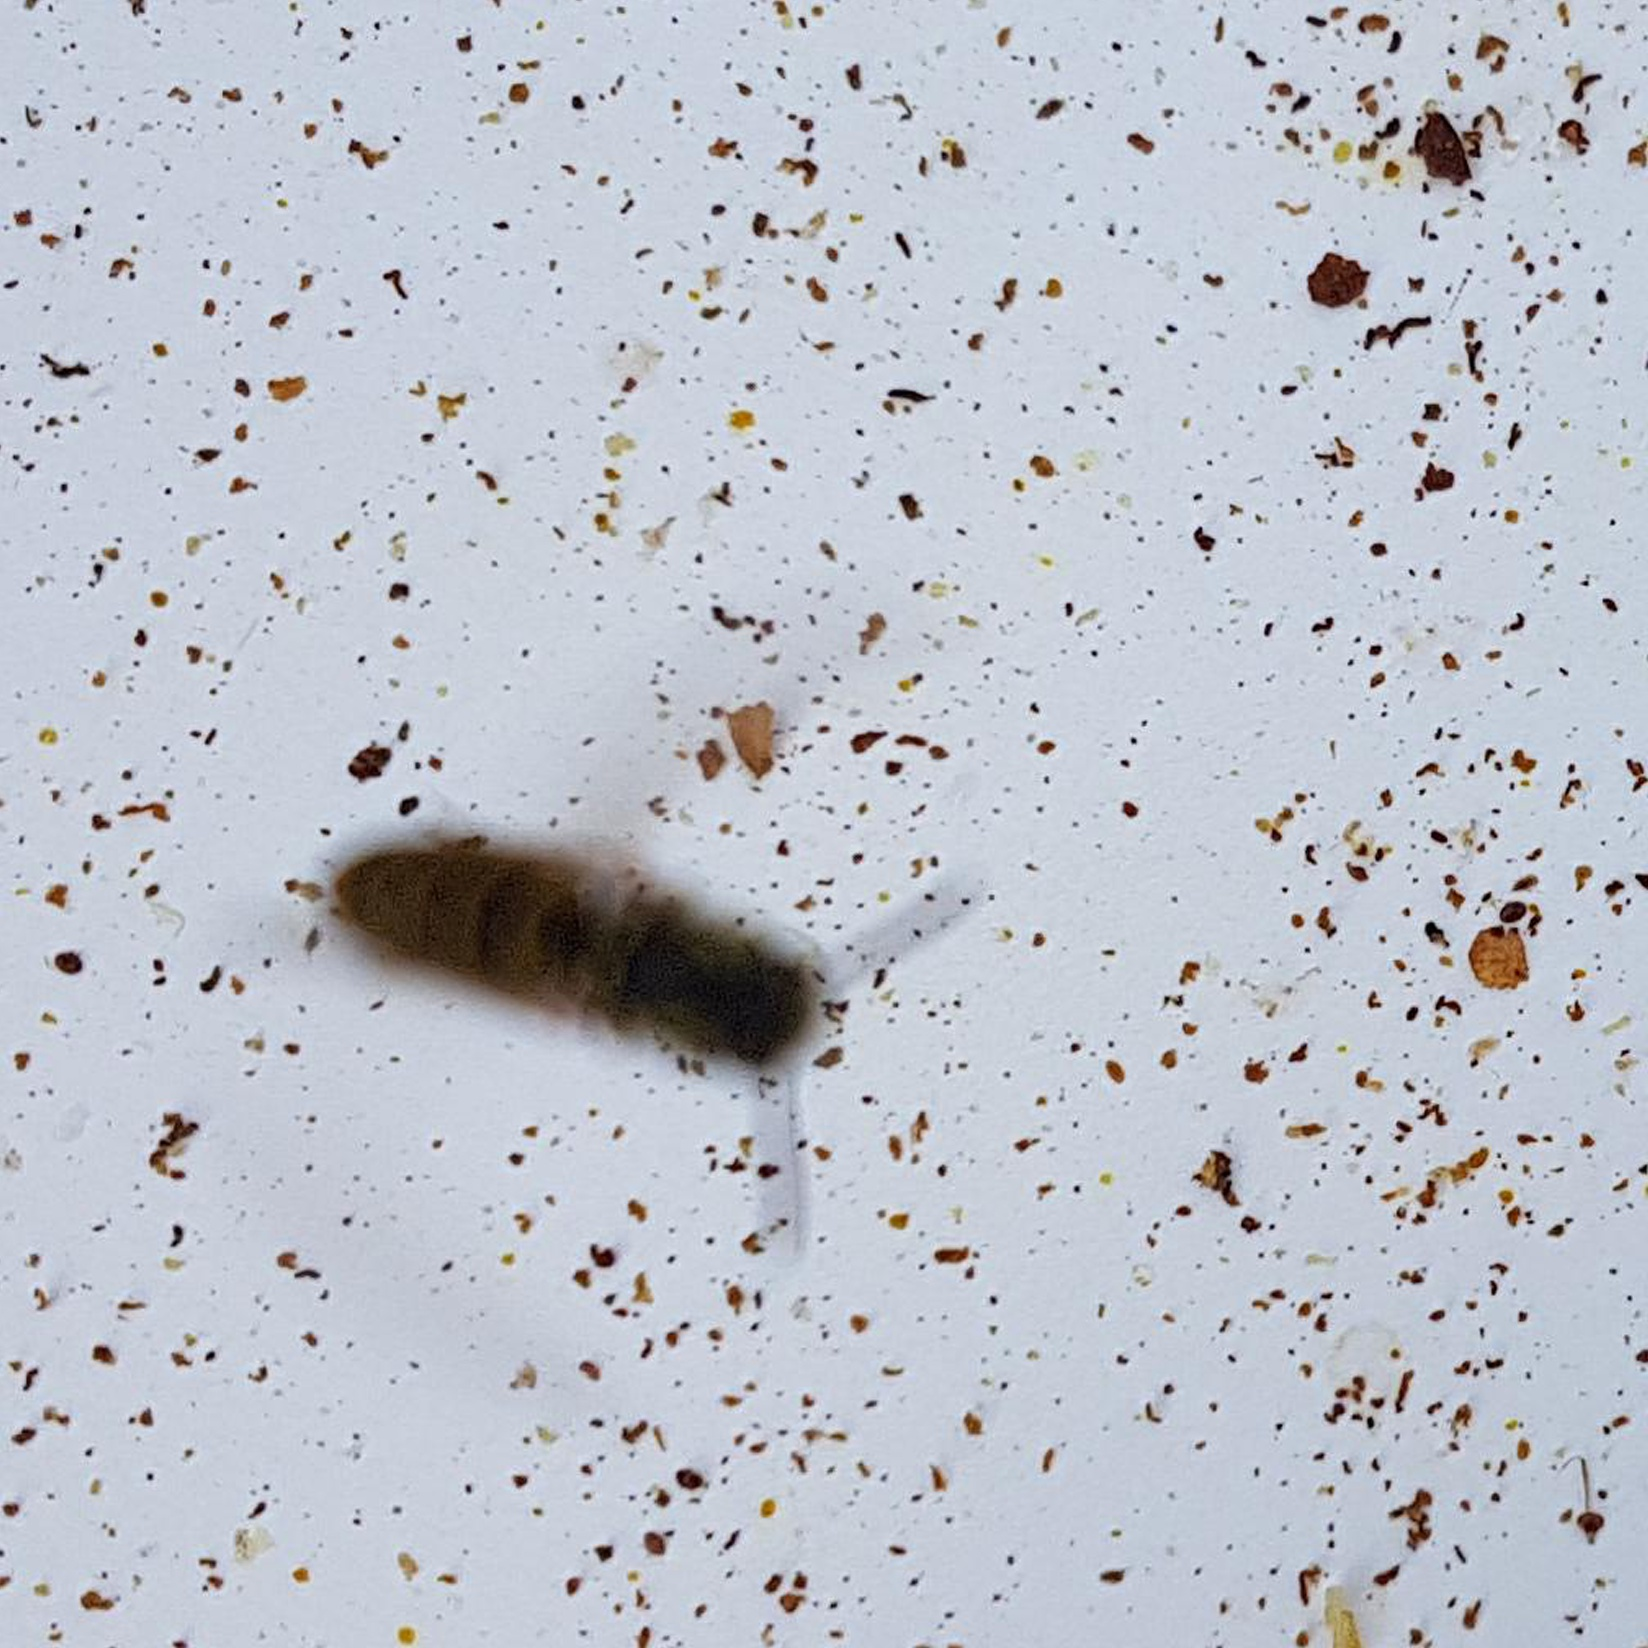Varroa: (1567, 1499, 1612, 1544), (682, 1464, 711, 1494), (1497, 901, 1524, 930), (57, 945, 81, 970), (641, 1533, 667, 1557)
